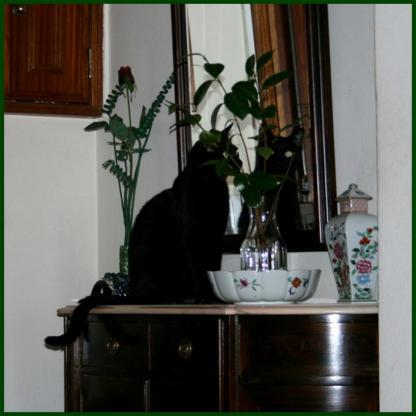vase: (238, 198, 287, 272)
